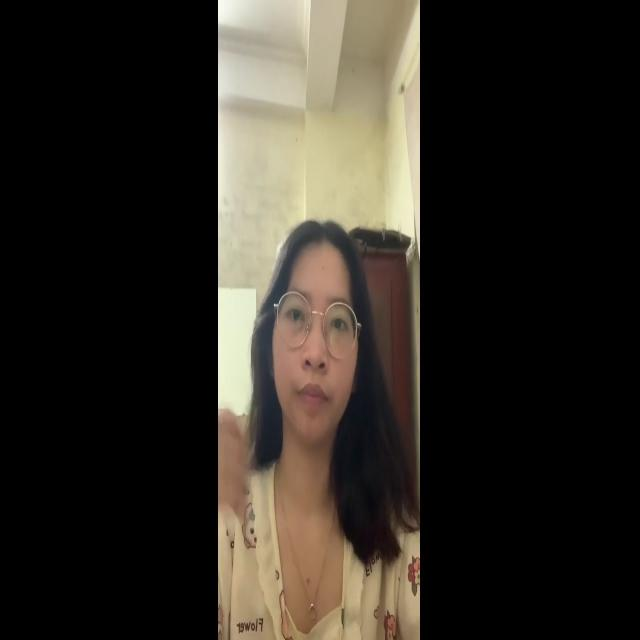student: (227, 195, 405, 640)
